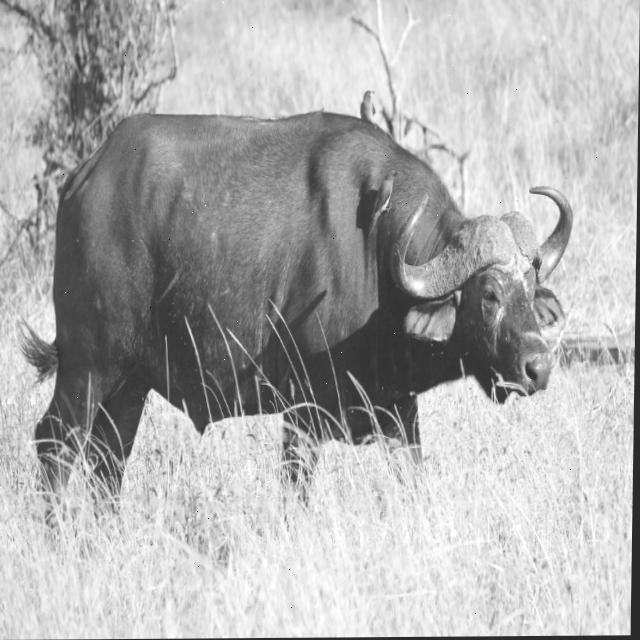Buffalo: (15, 109, 577, 546)
